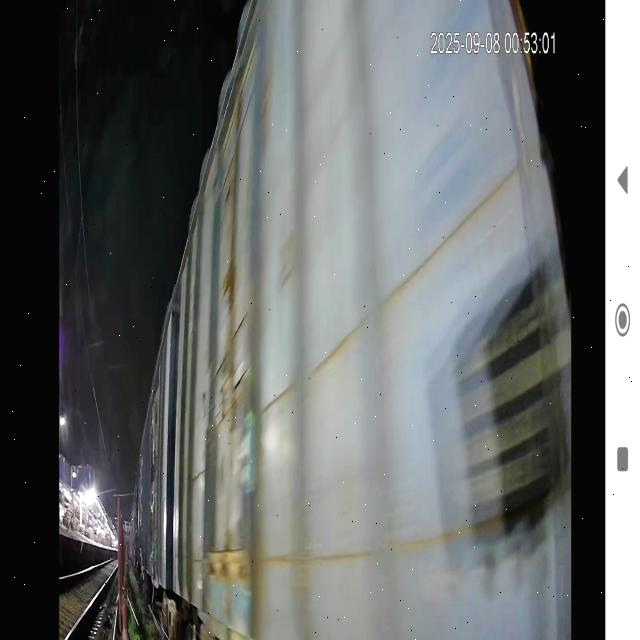coach: (175, 48, 566, 640)
